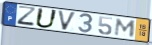3: (77, 12, 94, 34)
5: (98, 15, 114, 36)
M: (114, 18, 138, 38)
U: (34, 7, 59, 30)
V: (57, 10, 78, 32)
Z: (16, 5, 38, 28)
